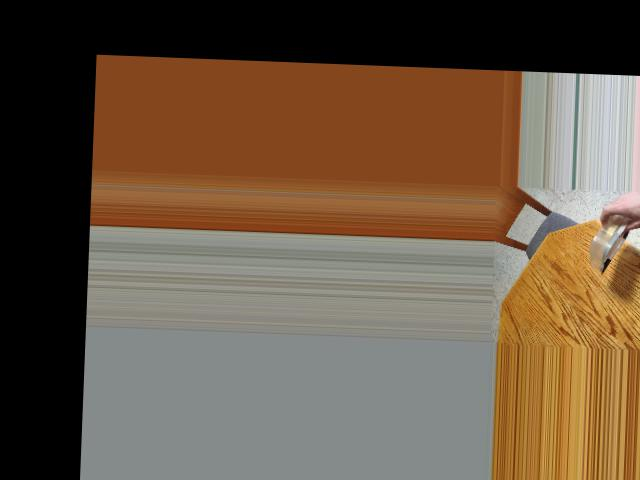cheese: (588, 210, 629, 273)
